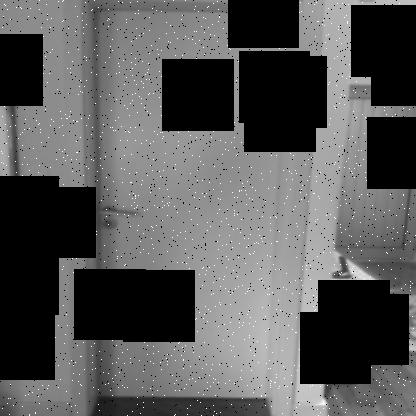Porte: (55, 0, 328, 415)
